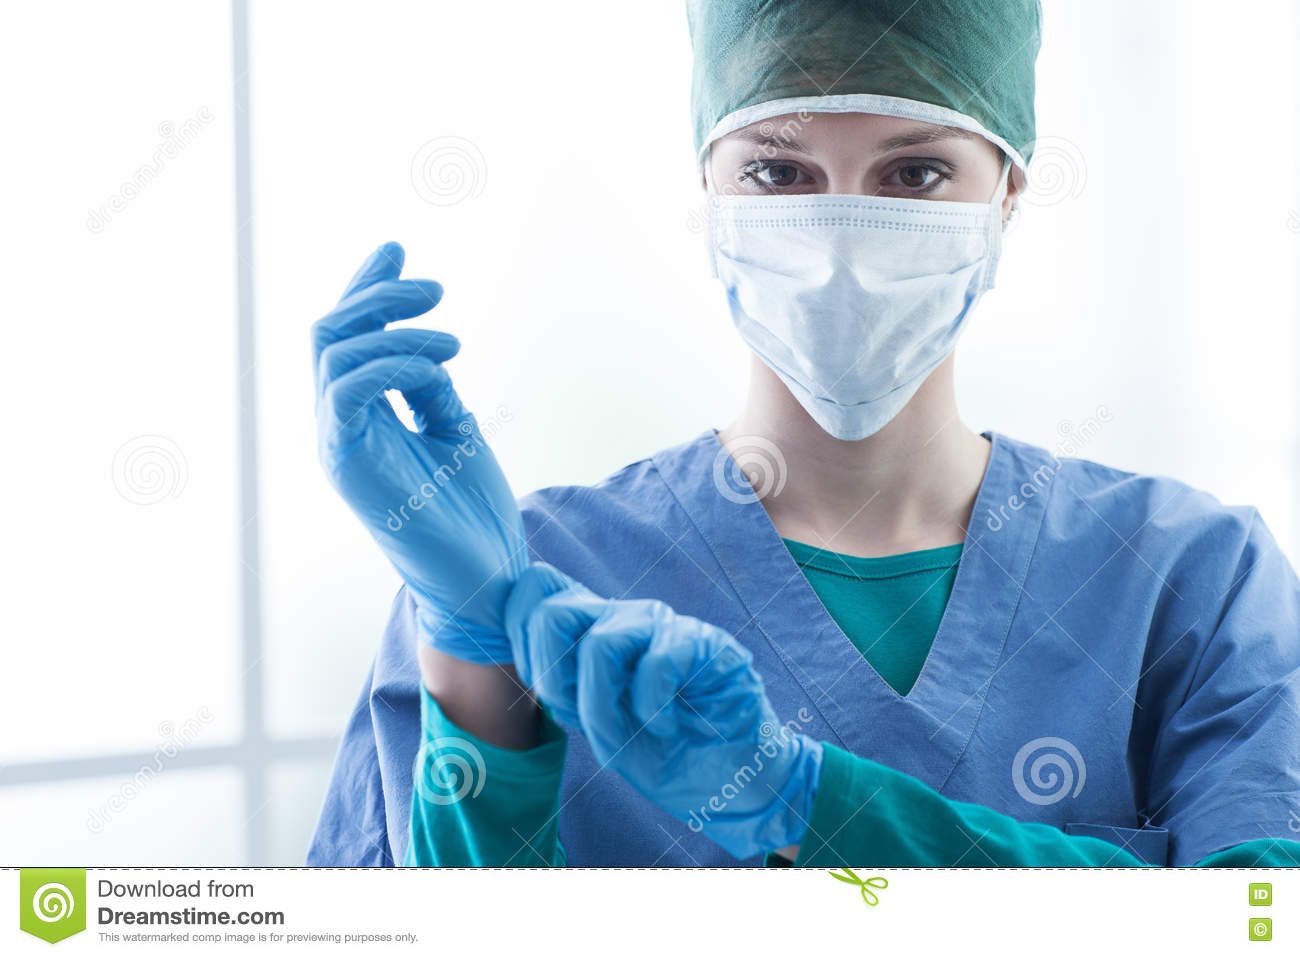mask: (689, 194, 1013, 427)
